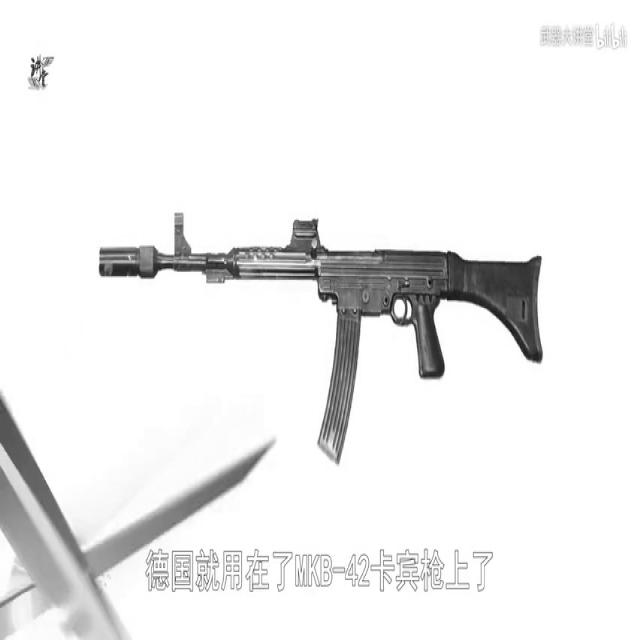Rifle: (104, 195, 558, 469)
